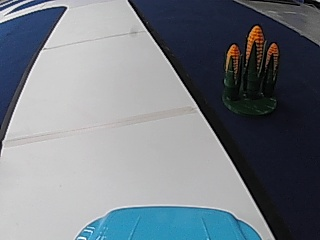corn: (218, 22, 286, 115)
